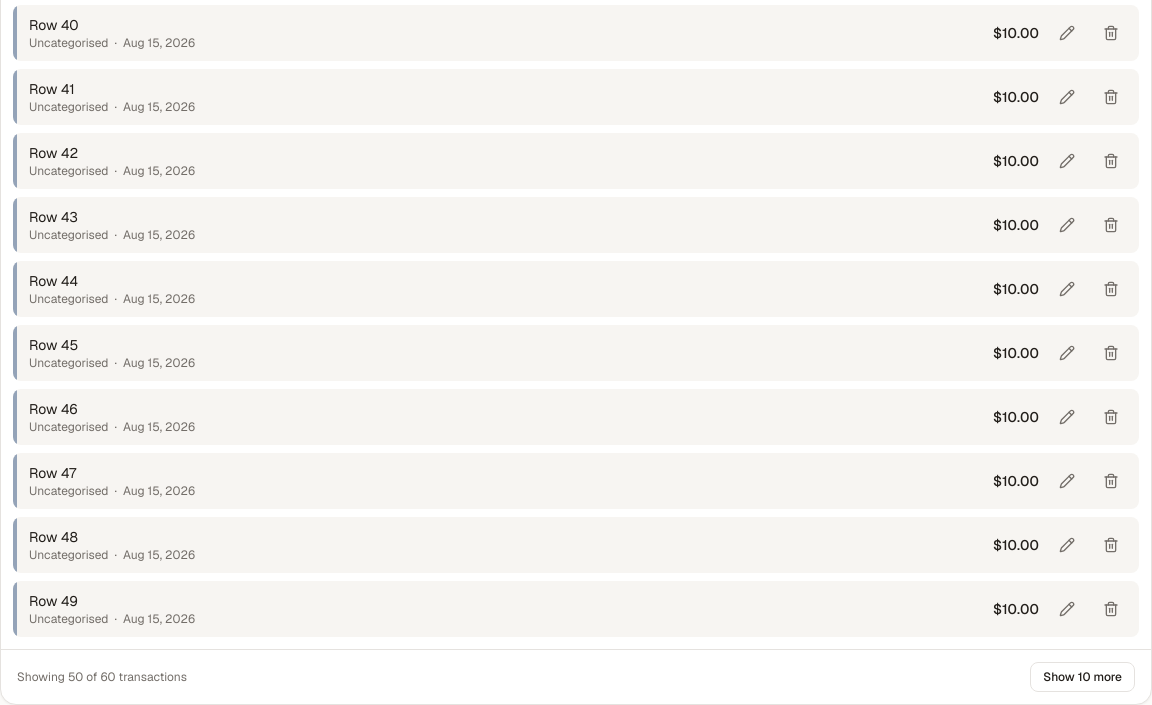
it: AllExpenses › draws fifty rows, then fifty more, without losing focus at the end
(page scrolled)
Expected: the text "Showing 50 of 60 transactions" is shown, [17,669,187,685]
Expected: the text "Row 55" is not shown
Click the button "Show 10 more" at [1083, 677], box [1030,662,1135,692]
(page scrolled)
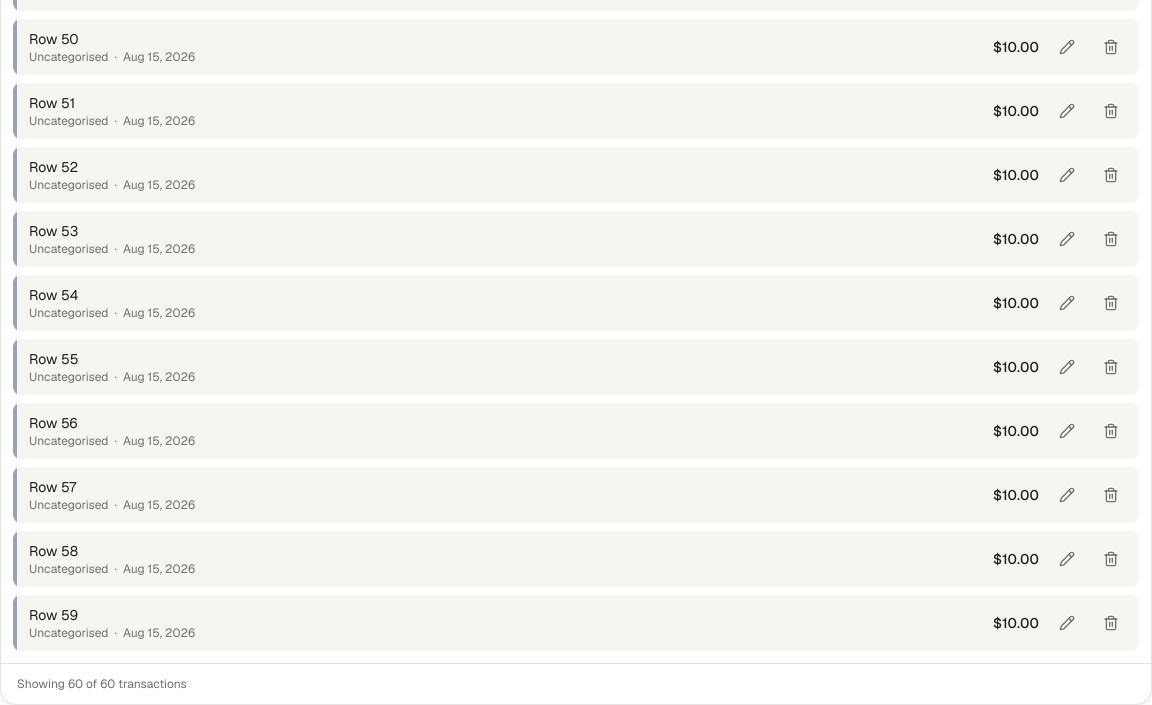
Expected: the text "Row 55" is shown, [29,350,78,368]
Expected: the button "more" is gone
